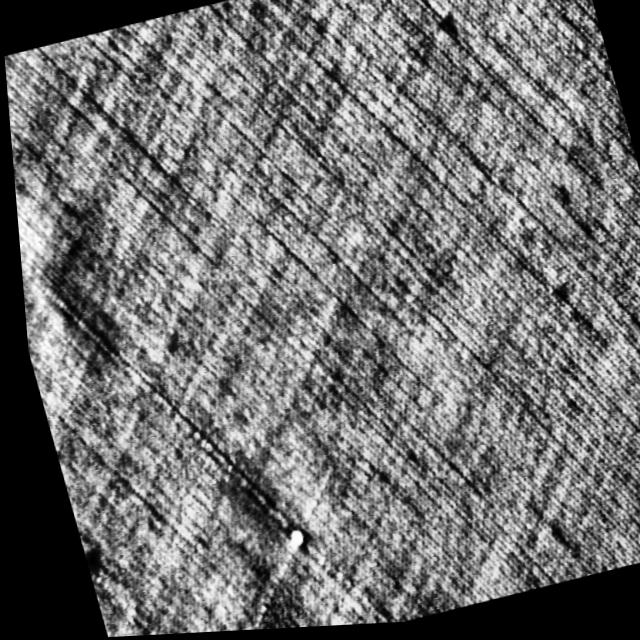Hole: (277, 527, 299, 553)
